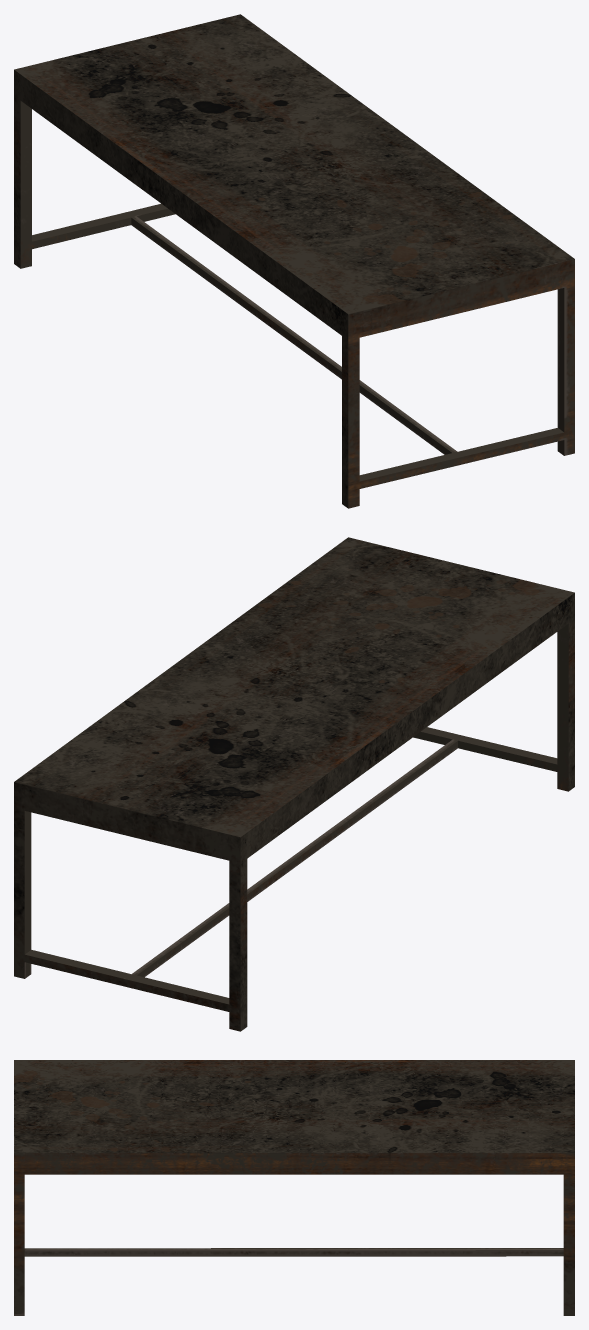
The model's file is Table_01.fbx.
3 renders of one model, top to bottom at view 1: azimuth 30°, elevation 25°; view 2: azimuth 150°, elevation 25°; view 3: azimuth 270°, elevation 25°, orthographic. The views are drawn at different scales.
Visible parts, largest first — view 1: Cube; view 2: Cube; view 3: Cube.
Boxes of the visible parts, x1=… form: Cube: x1=14, y1=14, x2=574, y2=508; Cube: x1=14, y1=537, x2=574, y2=1031; Cube: x1=14, y1=1060, x2=574, y2=1315.
Bounding box in the file's own units: 83.09 × 68.1 × 212.
